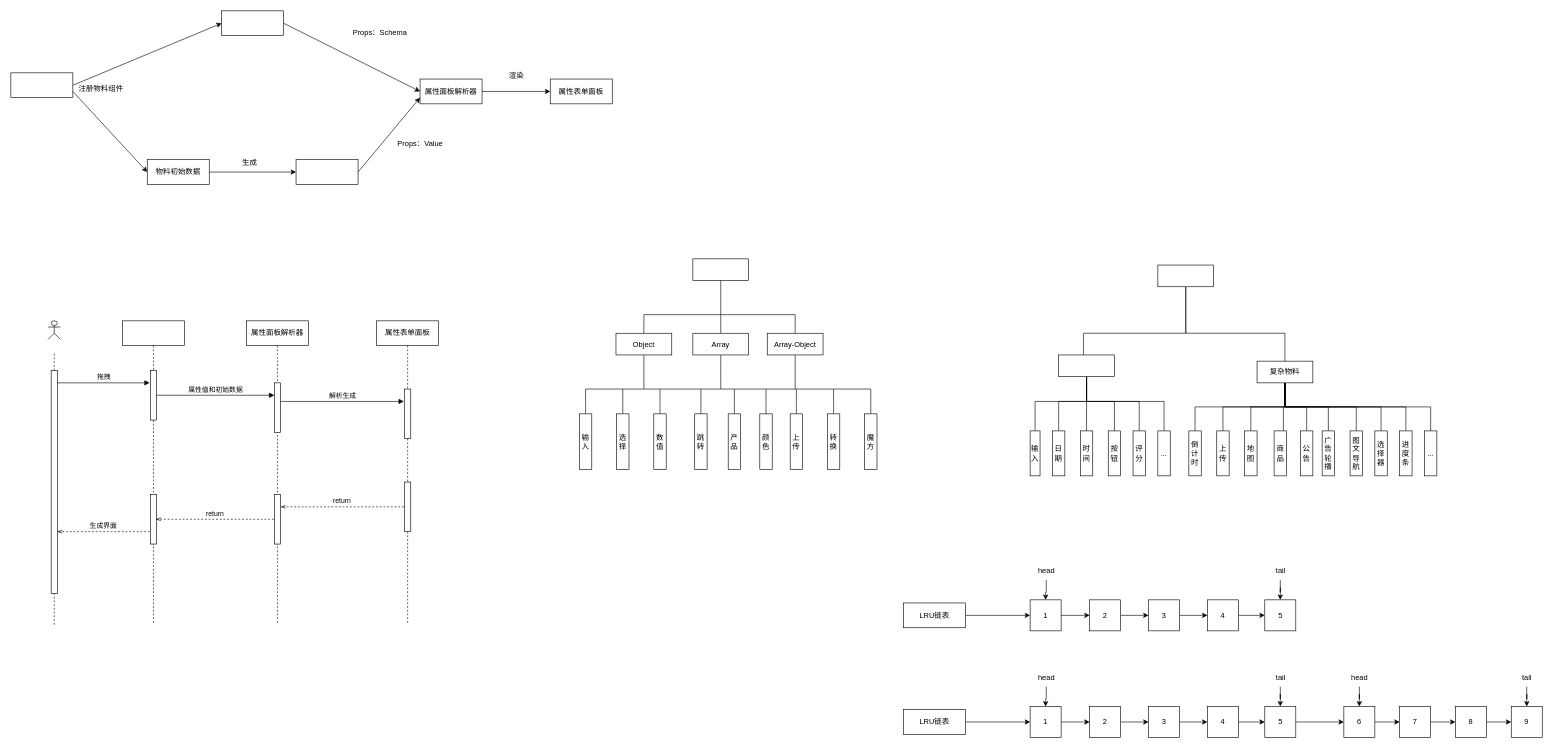
This 1553x748 diagram has some shape labels left out. Each missing label, with the box of its shape:
一个物料数据: (295, 159, 358, 184)
基础物料: (1058, 354, 1114, 377)
基础类型组件: (692, 258, 749, 281)
物料属性: (221, 10, 284, 36)
物料描述的Json: (10, 72, 73, 98)
物料组件: (122, 320, 184, 625)
物料组件库: (1157, 264, 1214, 287)
用户: (47, 320, 60, 339)
